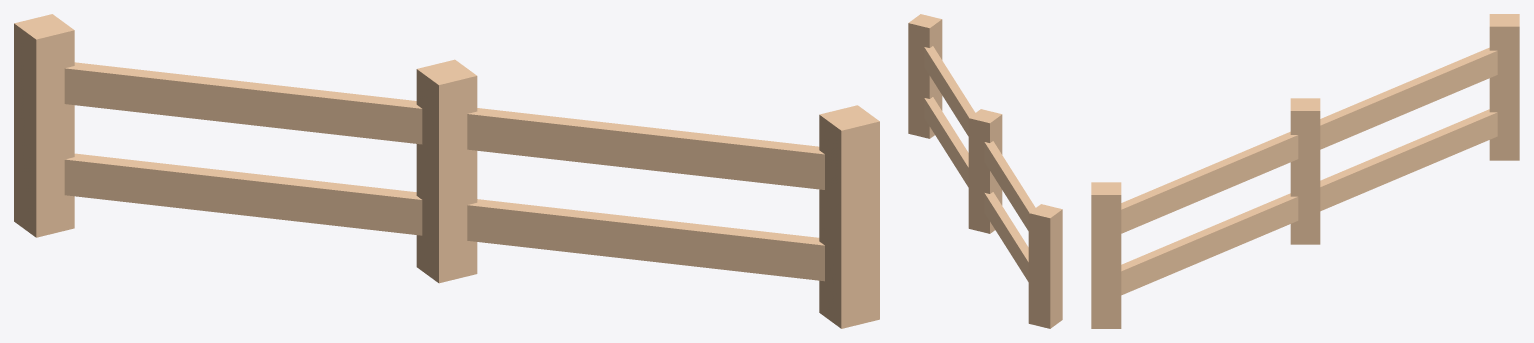
The model's file is fence_diagonalStrong.glb.
The picture shows the model from 3 angles, left to right: view 1: azimuth 30°, elevation 25°; view 2: azimuth 150°, elevation 25°; view 3: azimuth 270°, elevation 25°; orthographic projection. The views are drawn at different scales.
Parts seen in each view (by area): view 1: fence_diagonalStrong; view 2: fence_diagonalStrong; view 3: fence_diagonalStrong.
Part boxes in pixels (x1,y1,x2,y2): fence_diagonalStrong: (14, 14, 879, 328); fence_diagonalStrong: (908, 14, 1062, 328); fence_diagonalStrong: (1091, 14, 1519, 328).
Bounding box in the file's own units: 1 × 0.345 × 1.
